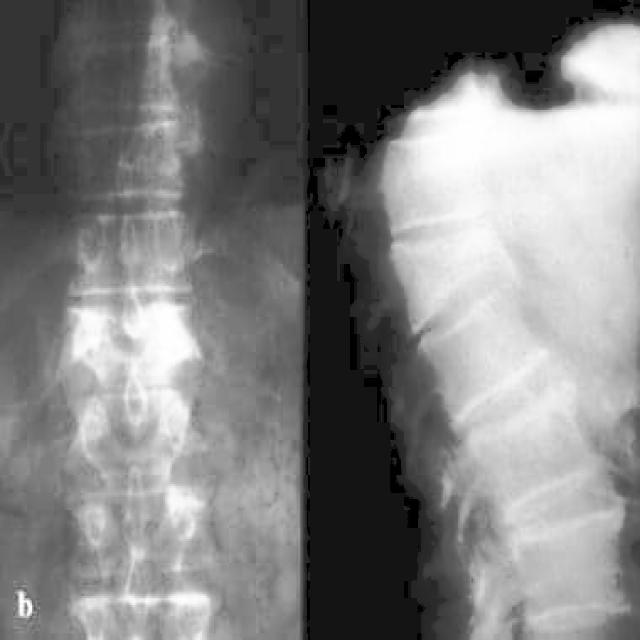Compression-Crush Fracutre: (397, 291, 568, 411), (367, 201, 528, 313)
